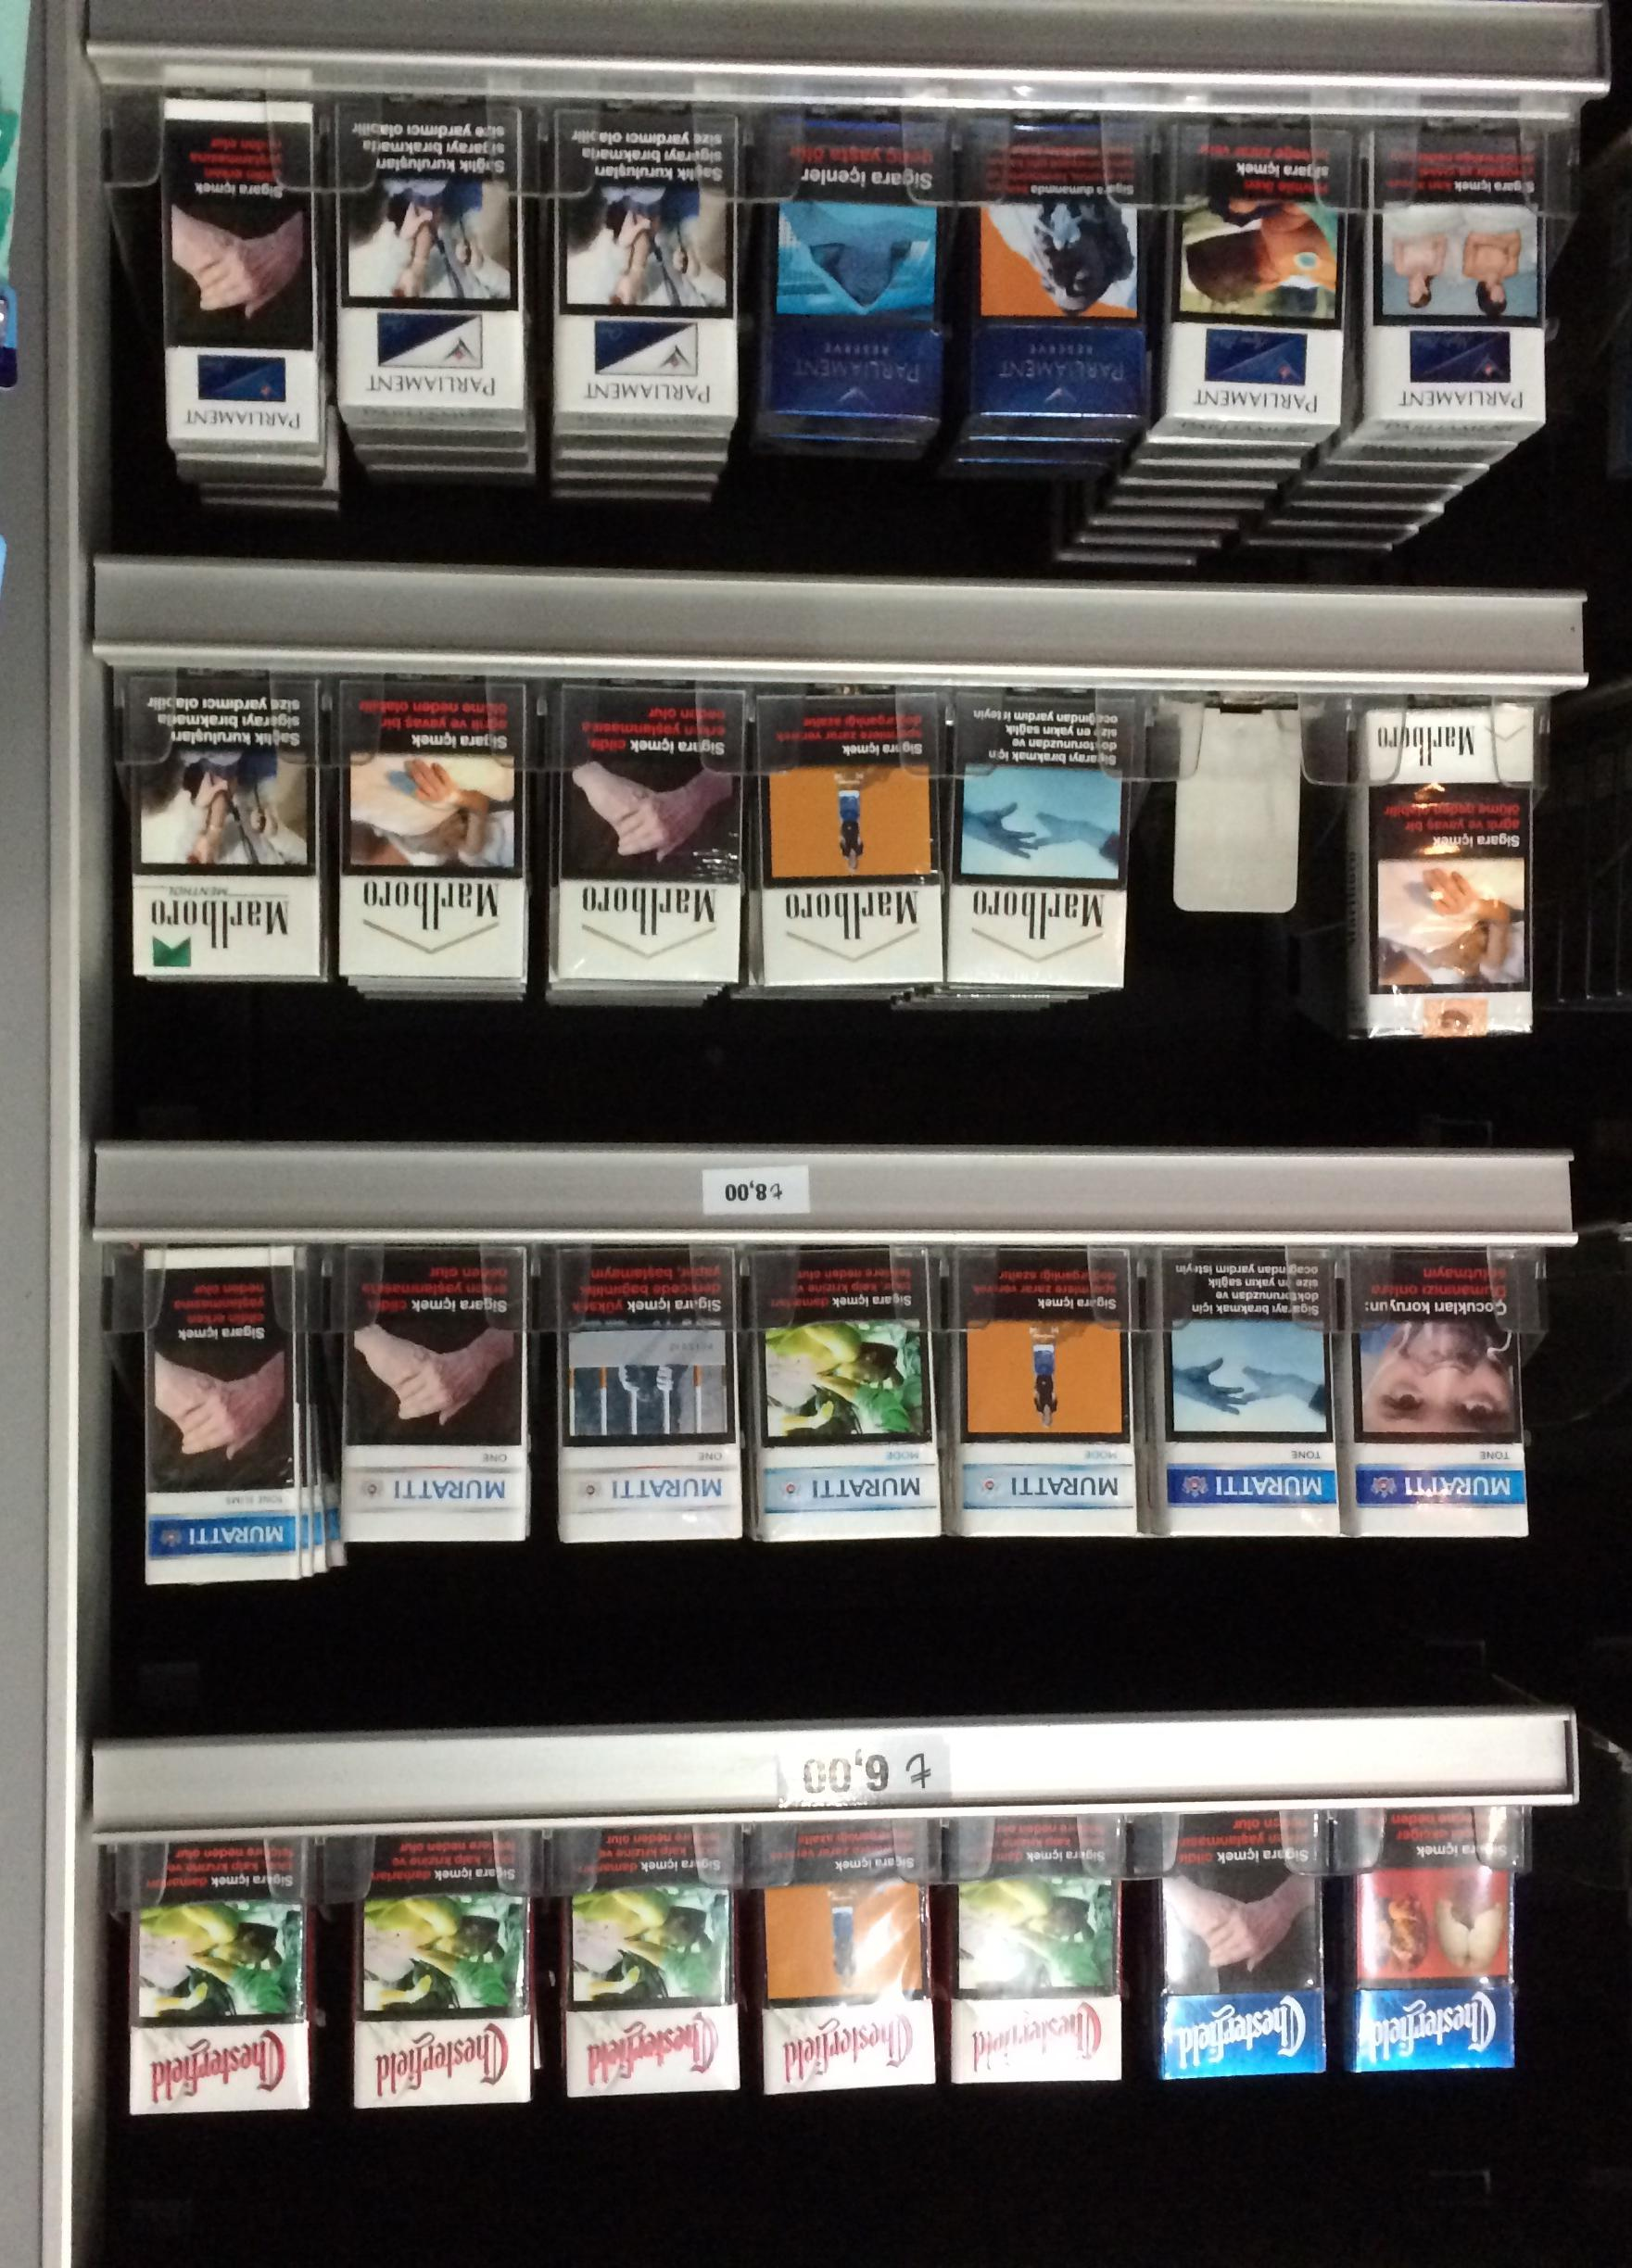product: (1086, 1264, 1306, 1587), (1290, 1268, 1511, 1590), (1317, 664, 1518, 1016), (83, 1220, 283, 1572), (1298, 1814, 1488, 2166), (875, 1275, 1079, 1599), (680, 1254, 884, 1576), (1102, 1831, 1303, 2154), (891, 1835, 1092, 2157), (271, 1828, 472, 2150), (86, 1831, 287, 2154), (465, 1828, 664, 2150), (676, 1828, 875, 2150), (495, 1254, 687, 1576), (93, 713, 294, 1002), (482, 720, 683, 1009), (683, 720, 884, 1009), (875, 720, 1076, 1009), (1095, 720, 1294, 1009), (287, 717, 486, 1005), (687, 171, 887, 446), (100, 187, 301, 460), (1320, 150, 1521, 423), (294, 187, 495, 460), (509, 183, 709, 456), (1099, 153, 1298, 428), (880, 167, 1079, 442)
